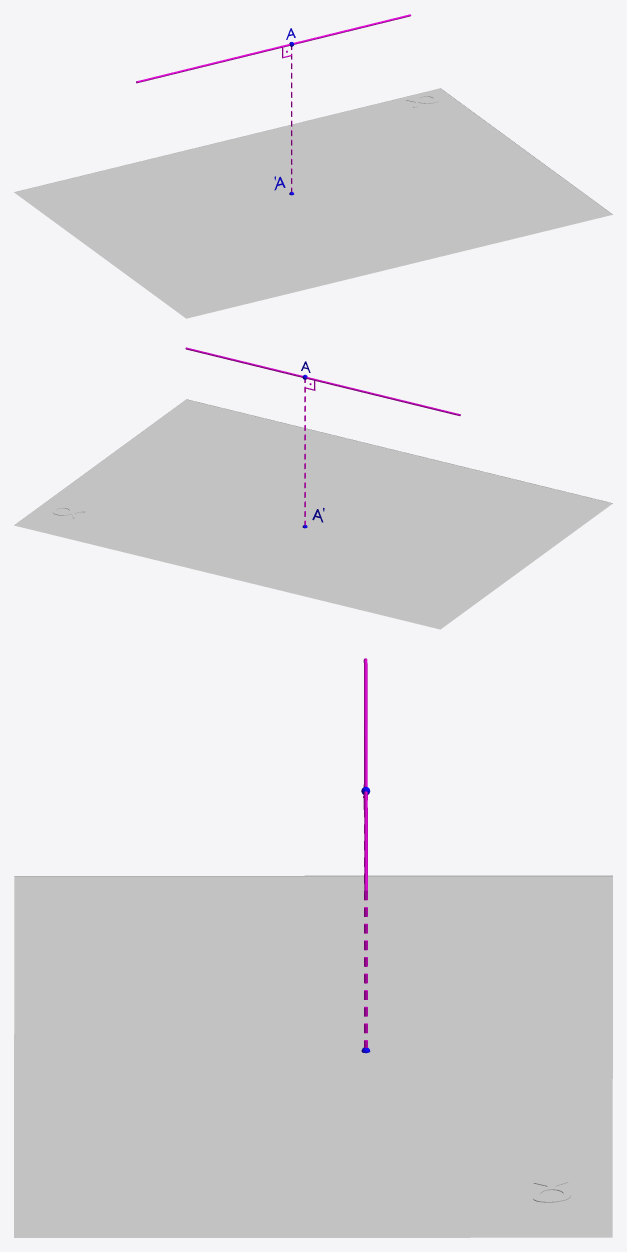
3 views of the same model, one above another, from view 1: azimuth 30°, elevation 25°; view 2: azimuth 150°, elevation 25°; view 3: azimuth 270°, elevation 25° (orthographic). The views are drawn at different scales.
Parts seen in each view (by area): view 1: plano_ALFA_Box, reta_r_Cylinder; view 2: plano_ALFA_Box, reta_r_Cylinder; view 3: plano_ALFA_Box, reta_r_Cylinder.
Boxes of the visible parts, box(x1,y1,x2,y2) form: plano_ALFA_Box: box(14, 88, 612, 318); reta_r_Cylinder: box(136, 14, 411, 83); plano_ALFA_Box: box(14, 399, 612, 629); reta_r_Cylinder: box(185, 347, 460, 415); plano_ALFA_Box: box(14, 875, 612, 1237); reta_r_Cylinder: box(363, 658, 367, 893).
Bounding box in the file's own units: 7 × 2.64 × 4.9.
